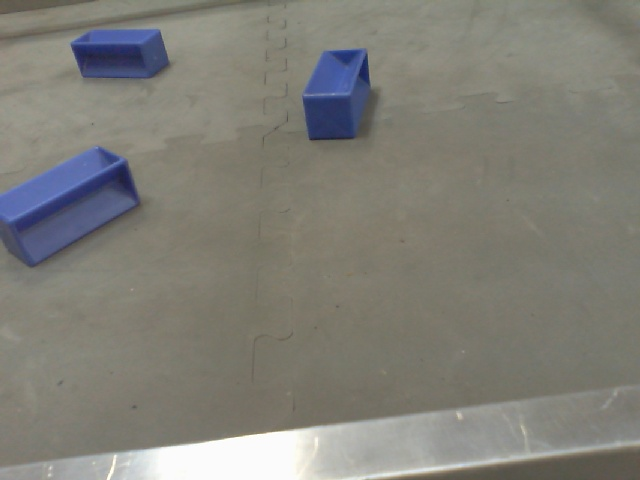BlueSample: (1, 139, 142, 276), (297, 45, 377, 144), (67, 26, 173, 86)
